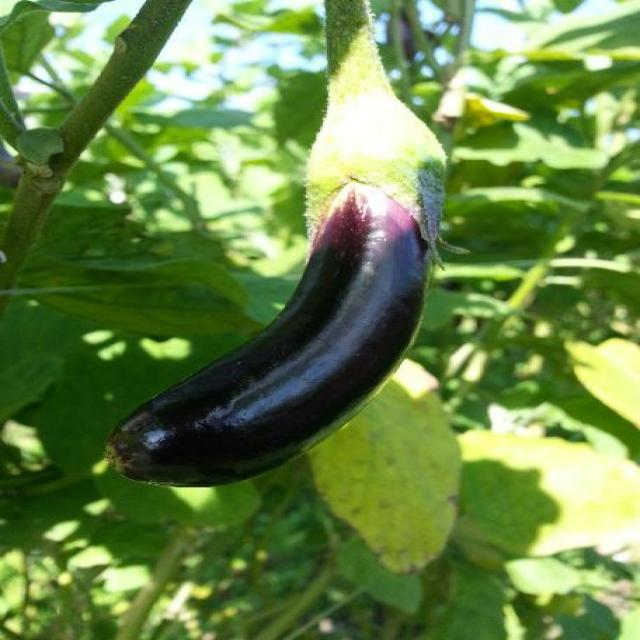eggplant: (102, 85, 440, 488)
